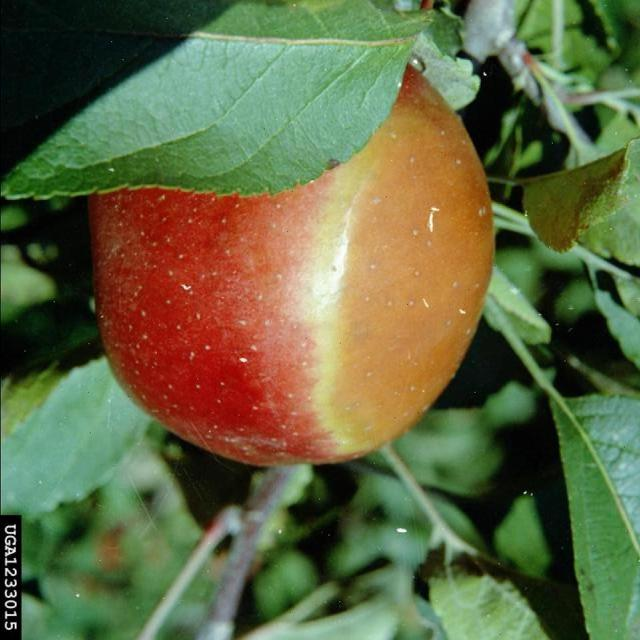Sunscald Fruit: (181, 48, 340, 309)
